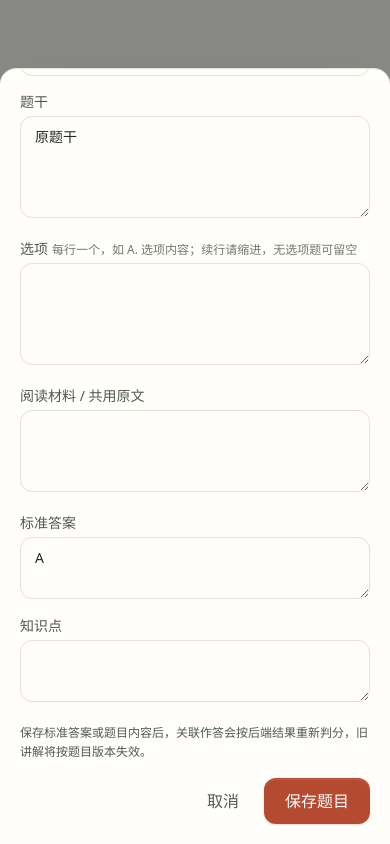
it: reports background reconciliation instead of claiming it completed
(page scrolled)
Click the button "保存题目". click: x=317, y=800
box: [264, 778, 370, 824]
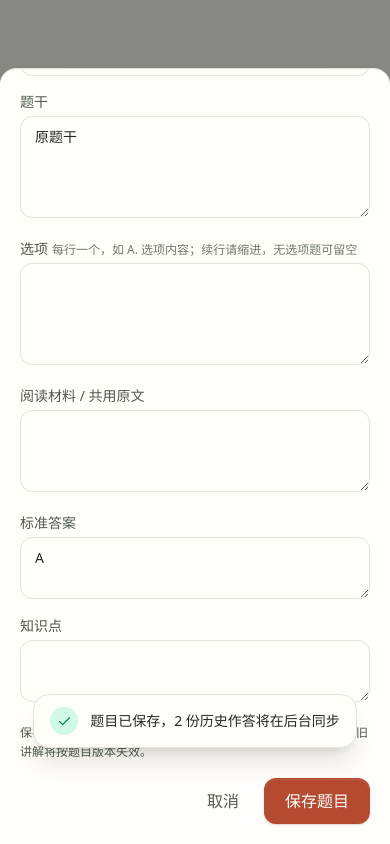
Expected: the text "题目已保存，2 份历史作答将在后台同步" is shown, [90, 711, 340, 731]
